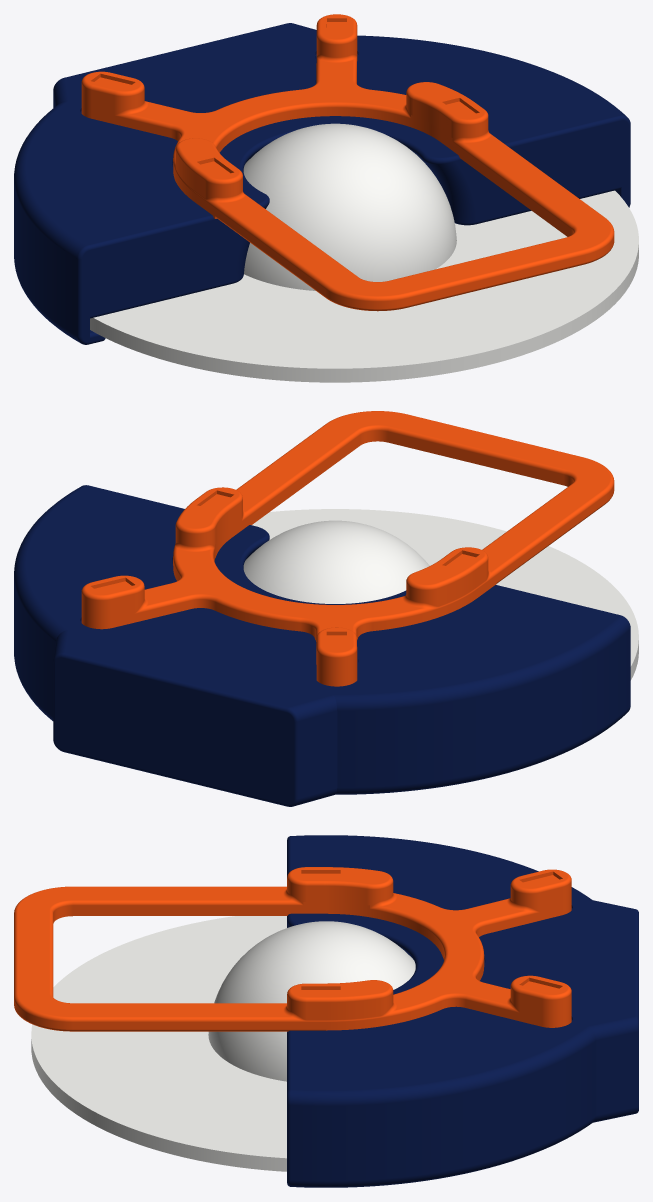
File: Atom Box 2.obj
3 views of the same model, one above another, from view 1: azimuth 30°, elevation 25°; view 2: azimuth 150°, elevation 25°; view 3: azimuth 270°, elevation 25° (orthographic). The views are drawn at different scales.
Parts seen in each view (by area): view 1: Atom Model Box 2, Body1:1, Atom Model Box Handle, Body1; view 2: Atom Model Box 2, Atom Model Box Handle, Body1, Body1:1; view 3: Atom Model Box 2, Atom Model Box Handle, Body1:1, Body1.
Boxes of the visible parts, box(x1,y1,x2,y2) form: Atom Model Box 2: box(14, 23, 630, 344); Body1:1: box(90, 190, 638, 382); Atom Model Box Handle: box(81, 14, 614, 311); Body1: box(243, 123, 456, 290); Atom Model Box 2: box(14, 485, 630, 806); Atom Model Box Handle: box(81, 411, 614, 686); Body1: box(243, 520, 429, 603); Body1:1: box(252, 509, 638, 680); Atom Model Box 2: box(287, 835, 638, 1187); Atom Model Box Handle: box(14, 867, 571, 1031); Body1:1: box(31, 916, 286, 1171); Body1: box(208, 921, 415, 1081).
Bounding box in the file's own units: 159 × 35.7 × 159.
